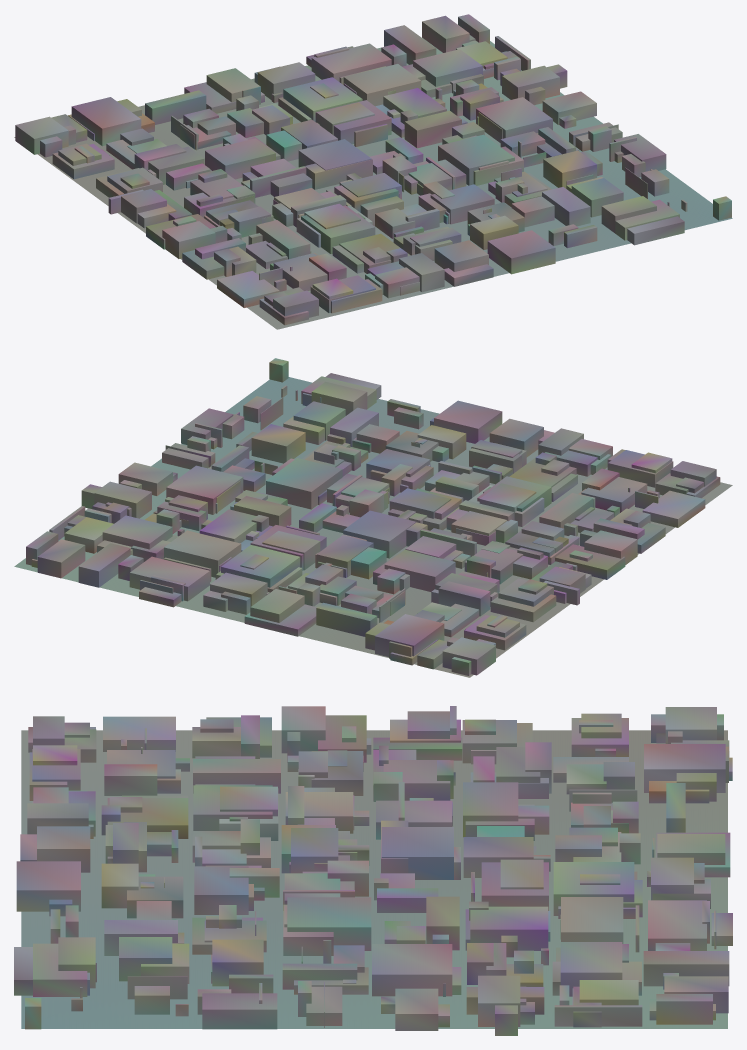
File: city.glb
3 views of the same model, one above another, from view 1: azimuth 30°, elevation 25°; view 2: azimuth 150°, elevation 25°; view 3: azimuth 270°, elevation 25° (orthographic). The views are drawn at different scales.
Visible parts, largest first — view 1: file1; view 2: file1; view 3: file1.
Part boxes in pixels (bbox=[...]): file1: bbox=[14, 14, 732, 329]; file1: bbox=[14, 358, 732, 677]; file1: bbox=[14, 706, 732, 1035].
Size of the model in its own units: 311 by 11.25 by 305.
1 material, 1 textured.
